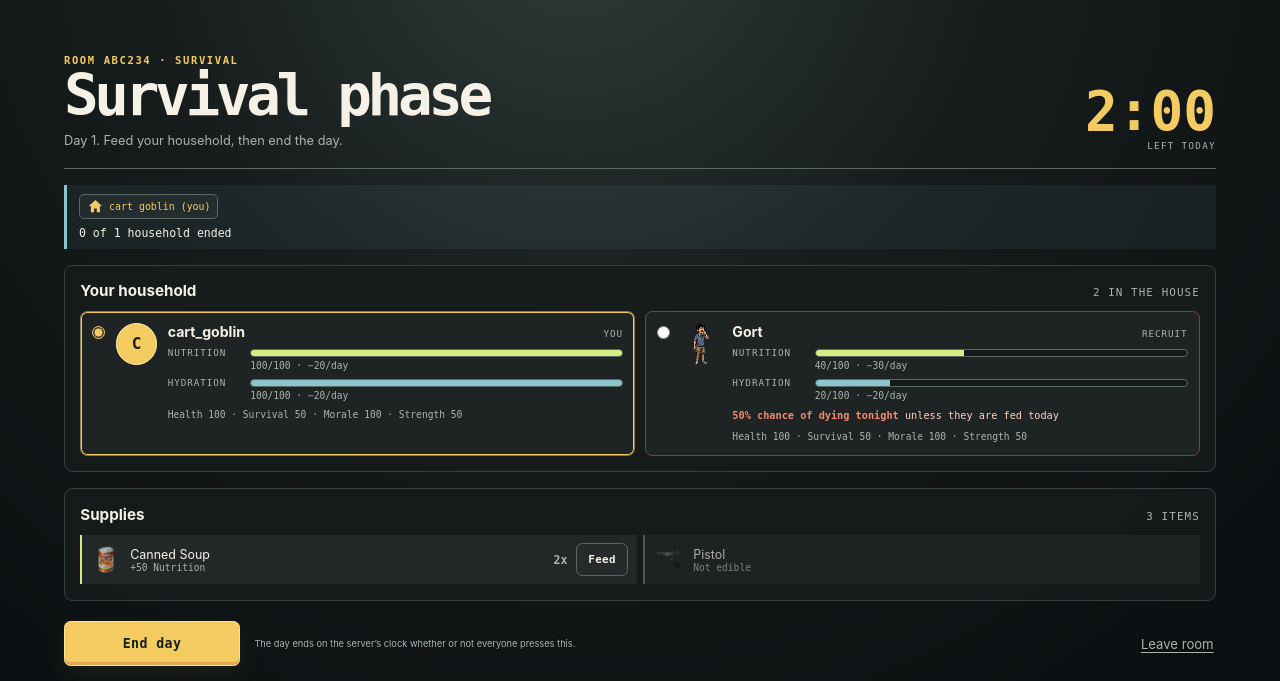
Scenario: survival day screen › shows the server’s own reason for a refused feed and never invents a restoration
Click the button "Feed": (602, 560) [576, 543, 628, 576]
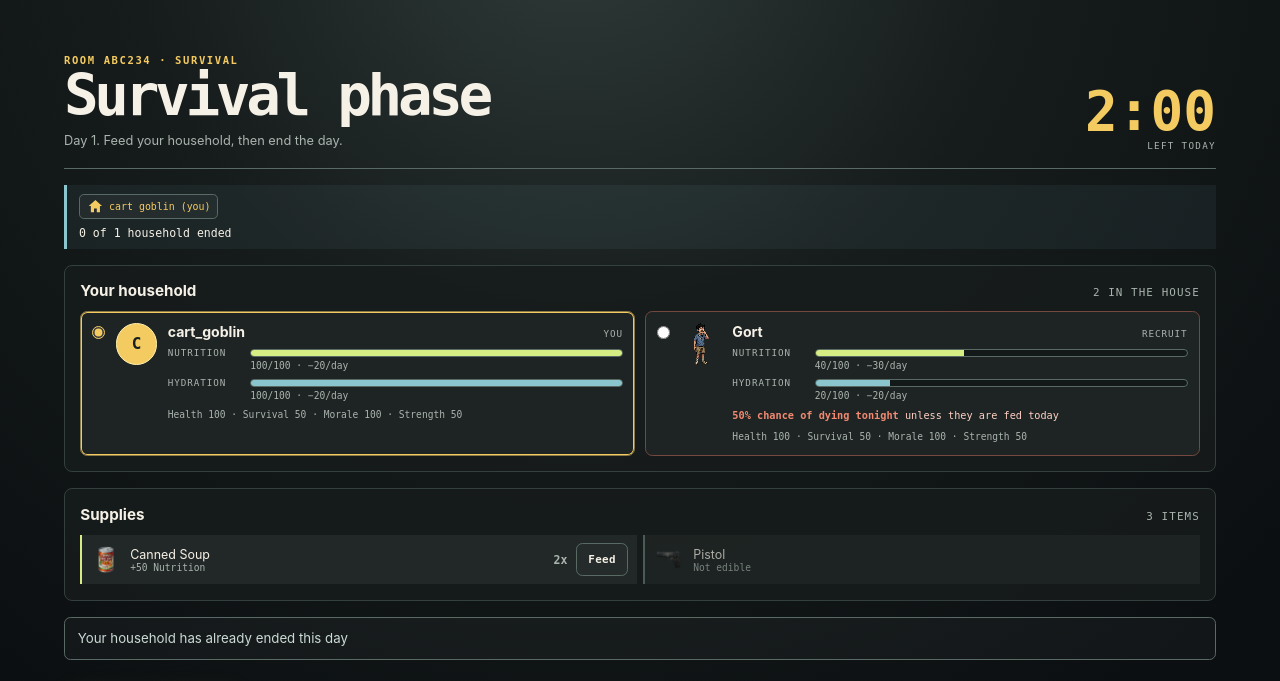
expect the text "Your household has already ended this day" is shown: met, box [64, 616, 1216, 660]
